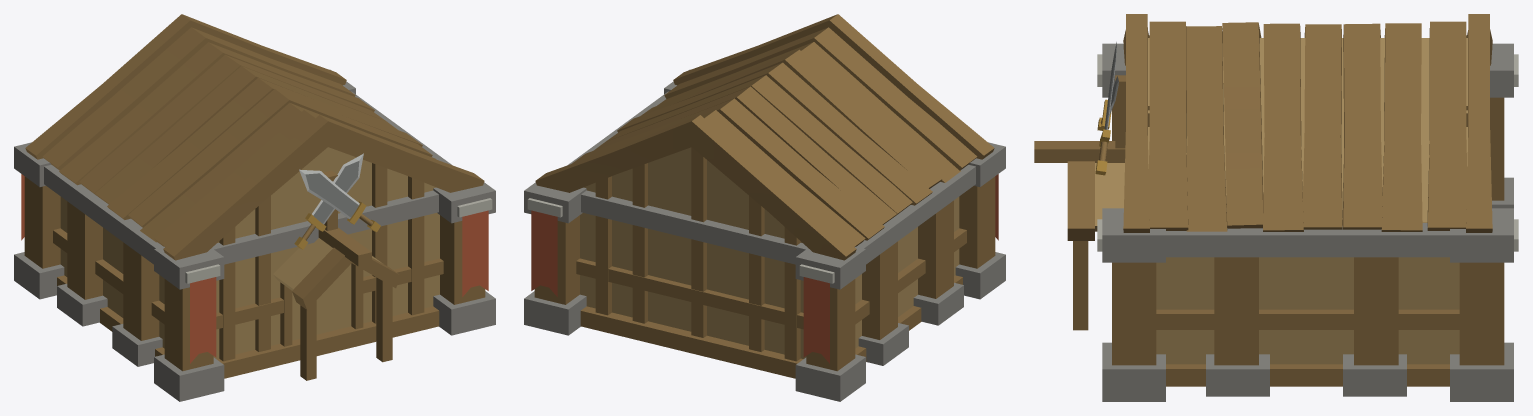
The model's file is Barracks_FirstAge_Level1.glb.
The picture shows the model from 3 angles, left to right: view 1: azimuth 30°, elevation 25°; view 2: azimuth 150°, elevation 25°; view 3: azimuth 270°, elevation 25°; orthographic projection. The views are drawn at different scales.
Visible parts, largest first — view 1: Barracks_FirstAge_Level1; view 2: Barracks_FirstAge_Level1; view 3: Barracks_FirstAge_Level1.
Boxes of the visible parts, x1,y1,x2,y2 form: Barracks_FirstAge_Level1: [14, 14, 495, 401]; Barracks_FirstAge_Level1: [524, 14, 1005, 401]; Barracks_FirstAge_Level1: [1034, 14, 1518, 401].
Bounding box in the file's own units: 1.01 × 0.7192 × 1.08.
1 material, 1 textured.
